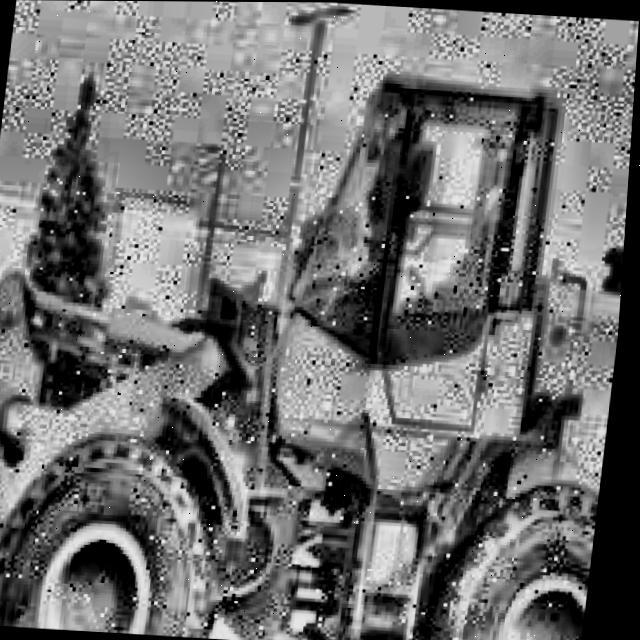buldozerpayloadergrader: (0, 26, 639, 640)
